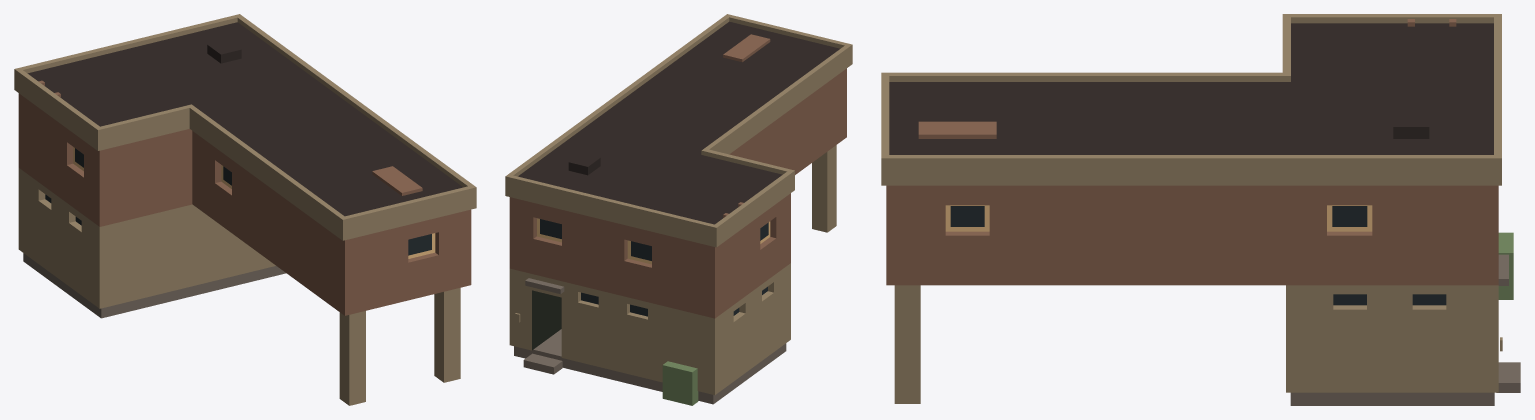
Rendered from barrack5.fbx.
3 renders of one model, left to right at view 1: azimuth 30°, elevation 25°; view 2: azimuth 150°, elevation 25°; view 3: azimuth 270°, elevation 25°, orthographic. The views are drawn at different scales.
Parts seen in each view (by area): view 1: barrack5; view 2: barrack5; view 3: barrack5.
Boxes of the visible parts, bbox=[...] form: barrack5: bbox=[14, 14, 476, 405]; barrack5: bbox=[505, 14, 852, 405]; barrack5: bbox=[881, 14, 1520, 405].
Size of the model in its own units: 736 by 615 by 1379.
